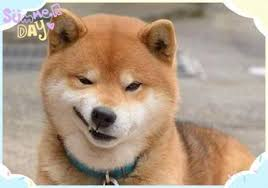dog: (33, 5, 191, 159)
